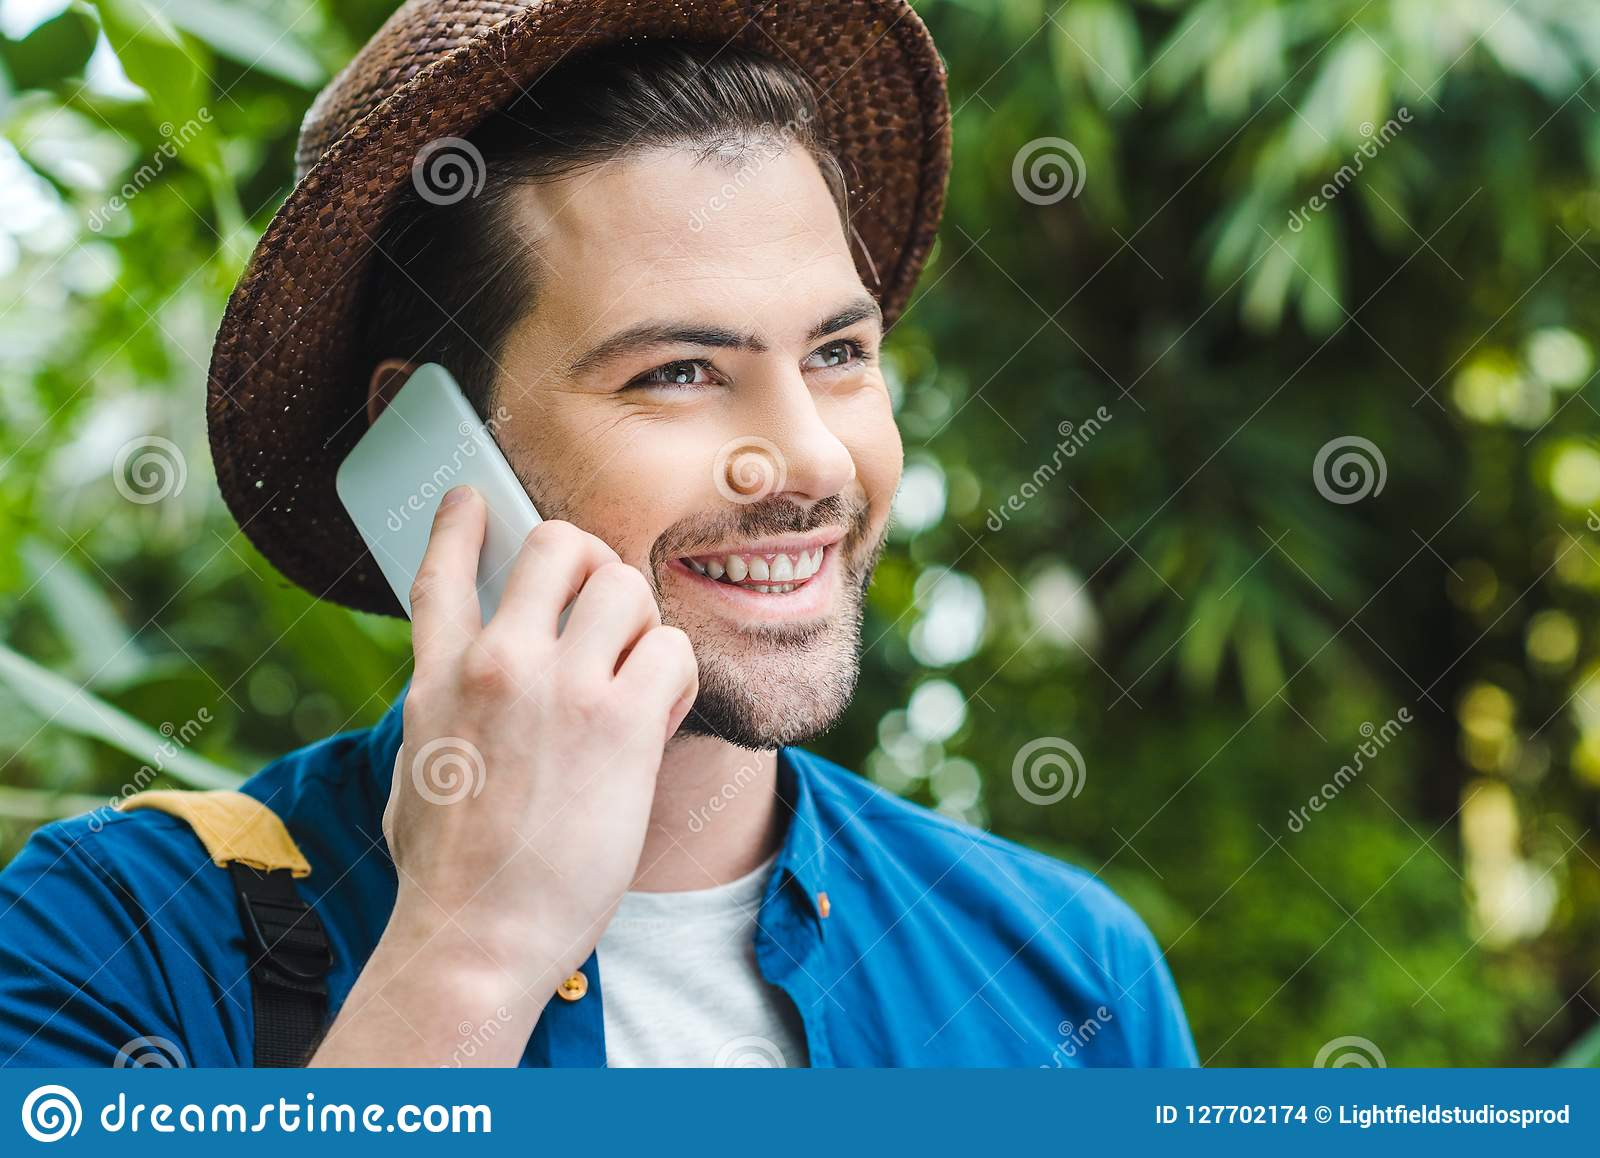phone: (342, 362, 648, 739)
talk: (334, 292, 908, 1029)
